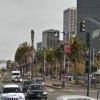Bus: (9, 67, 21, 80)
